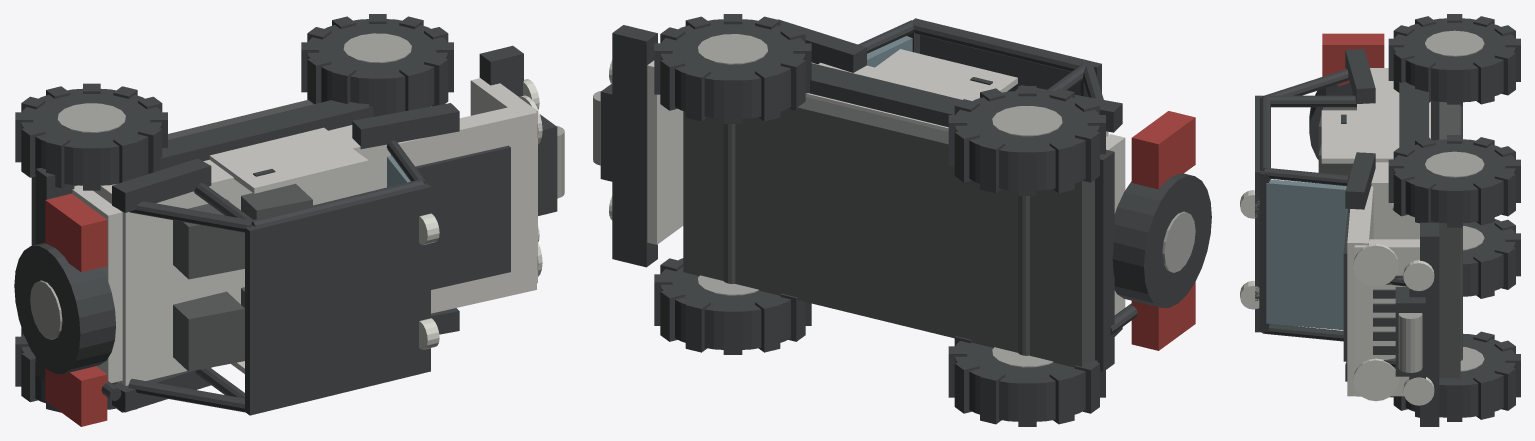
Rendered from vehicle.glb.
3 views of the same model, side by side, from view 1: azimuth 30°, elevation 25°; view 2: azimuth 150°, elevation 25°; view 3: azimuth 270°, elevation 25° (orthographic). The views are drawn at different scales.
Visible parts, largest first — view 1: Soft_Top_Roof, Body_Tub, Hood, Hood_Armor, Spare_Tire, Wheel_RR, Door_R, Wheel_FR, Rocker_Armor_R, Seat_-0.72_-0.37, Fuel_Can_R, Seat_-0.72_0.37 (+35 smaller); view 2: Chassis, Spare_Tire, Front_Bumper, Wheel_RR, Wheel_FR, Front_Grille, Rocker_Armor_R, Wheel_RL, Wheel_FL, Door_R, Rear_Bumper, Fuel_Can_R (+38 smaller); view 3: Windshield_Glass, Wheel_FR, Wheel_RR, Chassis, Door_R, Front_Grille, Body_Tub, Front_Bumper, Wheel_FL, Hood, Fuel_Can_R, Wheel_RL (+48 smaller).
Boxes of the visible parts, bbox=[...] form: Soft_Top_Roof: bbox=[245, 183, 430, 415]; Body_Tub: bbox=[93, 125, 390, 385]; Hood: bbox=[391, 103, 536, 313]; Hood_Armor: bbox=[415, 145, 510, 289]; Spare_Tire: bbox=[14, 242, 115, 373]; Wheel_RR: bbox=[21, 88, 162, 185]; Door_R: bbox=[209, 127, 368, 193]; Wheel_FR: bbox=[307, 19, 447, 114]; Rocker_Armor_R: bbox=[160, 100, 373, 170]; Seat_-0.72_-0.37: bbox=[173, 291, 244, 371]; Fuel_Can_R: bbox=[45, 193, 107, 272]; Seat_-0.72_0.37: bbox=[173, 199, 244, 279]; Chassis: bbox=[683, 97, 1094, 367]; Spare_Tire: bbox=[1112, 173, 1211, 307]; Front_Bumper: bbox=[612, 25, 657, 267]; Wheel_RR: bbox=[955, 91, 1099, 190]; Wheel_FR: bbox=[660, 19, 805, 118]; Front_Grille: bbox=[647, 60, 683, 244]; Rocker_Armor_R: bbox=[810, 63, 961, 127]; Wheel_RL: bbox=[955, 341, 1098, 421]; Wheel_FL: bbox=[660, 258, 790, 349]; Door_R: bbox=[864, 49, 1017, 100]; Rear_Bumper: bbox=[1095, 149, 1114, 371]; Fuel_Can_R: bbox=[1131, 111, 1195, 189]; Windshield_Glass: bbox=[1266, 179, 1347, 330]; Wheel_FR: bbox=[1393, 139, 1515, 223]; Wheel_RR: bbox=[1393, 18, 1515, 102]; Chassis: bbox=[1439, 102, 1460, 378]; Door_R: bbox=[1321, 110, 1399, 163]; Front_Grille: bbox=[1354, 239, 1419, 396]; Body_Tub: bbox=[1357, 68, 1430, 239]; Front_Bumper: bbox=[1420, 222, 1439, 426]; Wheel_FL: bbox=[1405, 333, 1515, 417]; Hood: bbox=[1347, 186, 1373, 396]; Fuel_Can_R: bbox=[1322, 33, 1384, 84]; Wheel_RL: bbox=[1463, 219, 1515, 296].
Bounding box in the file's own units: 4.56 × 2.14 × 2.35.
